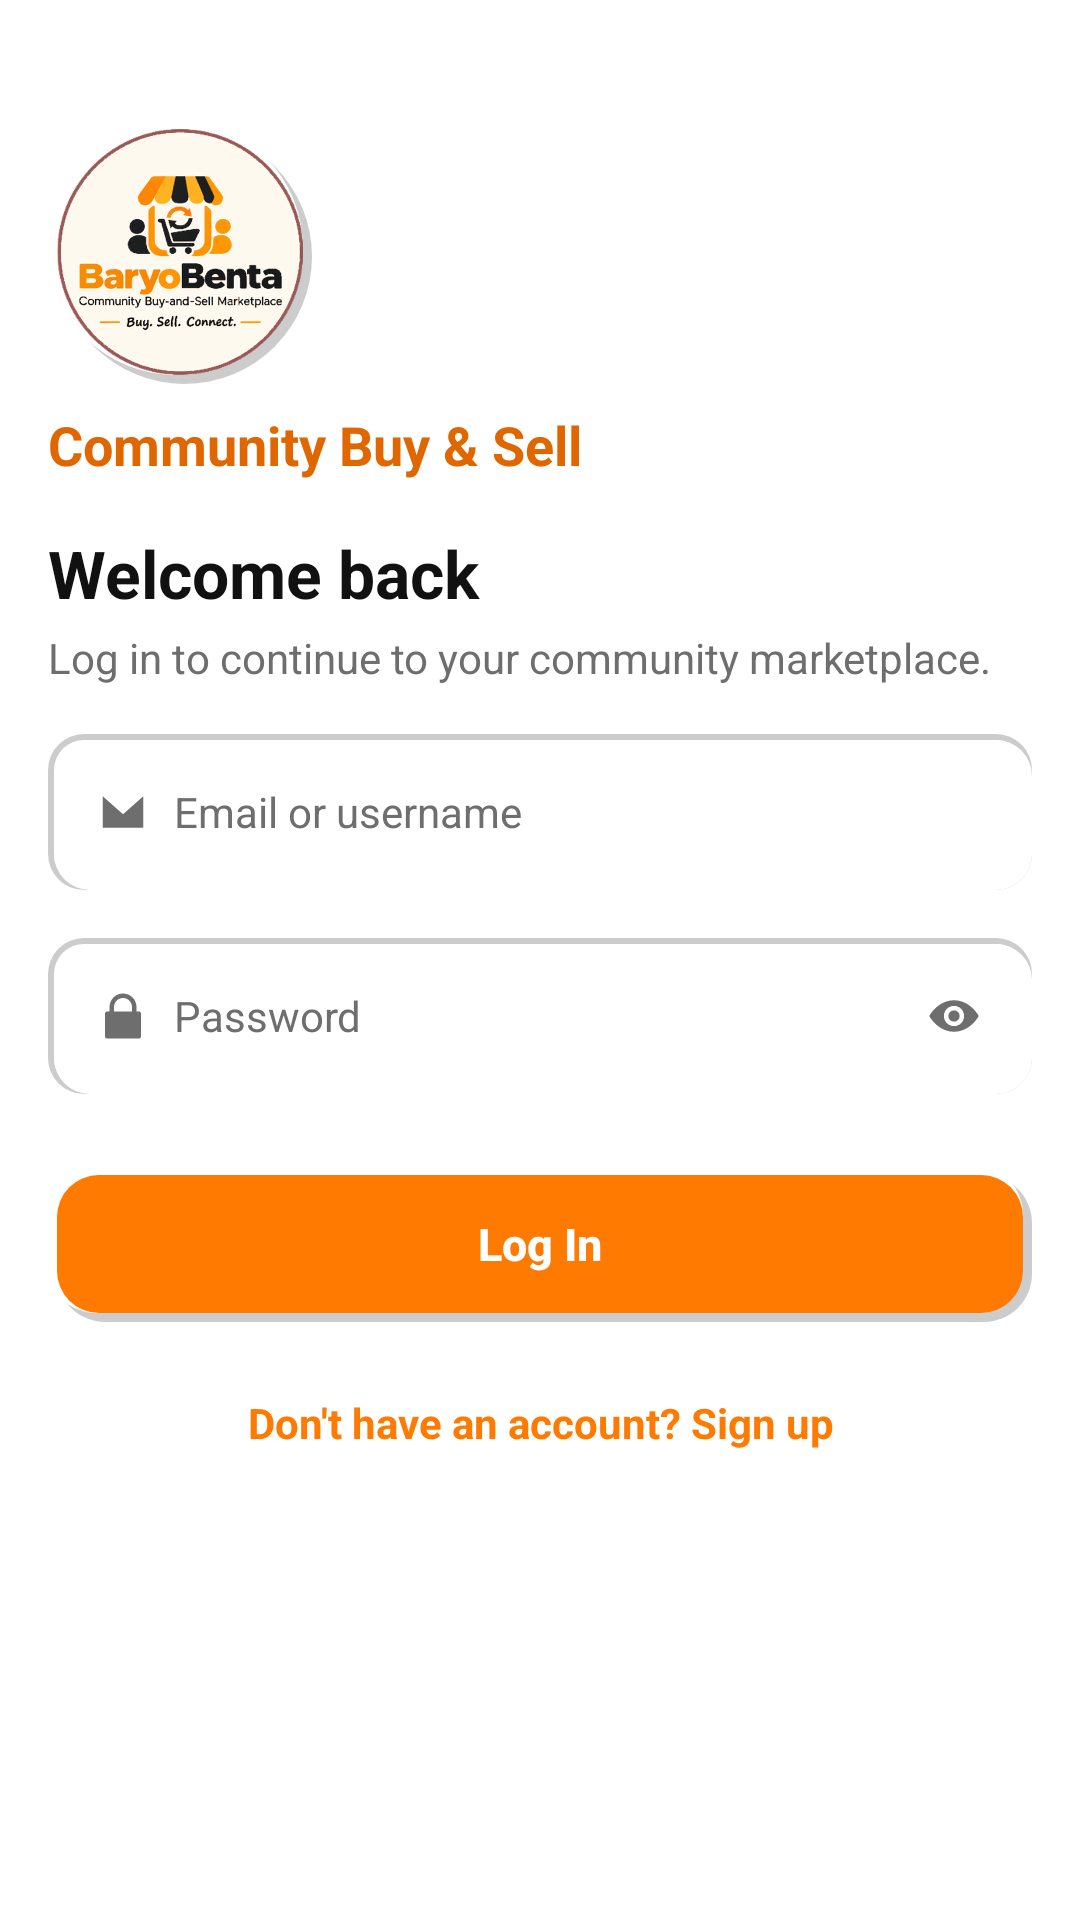

Point at icon controls on the screen. Image size 1080×1920, points as [x,y].
lock: [123,1016]
